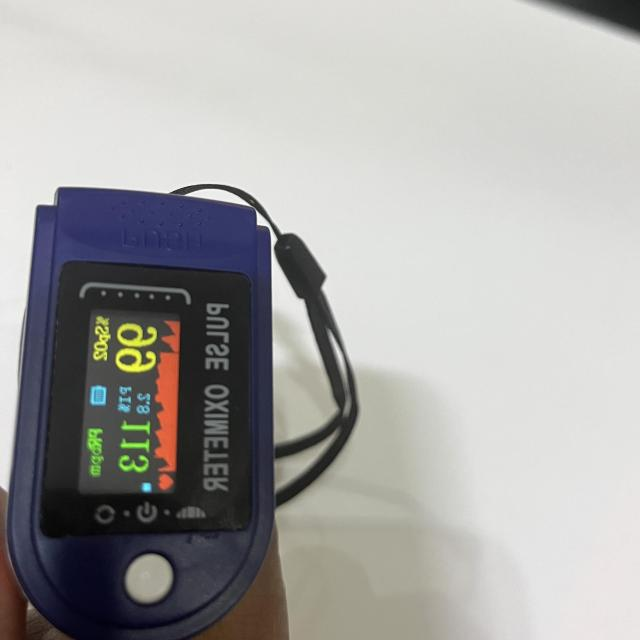spo2: (1, 188, 280, 640)
